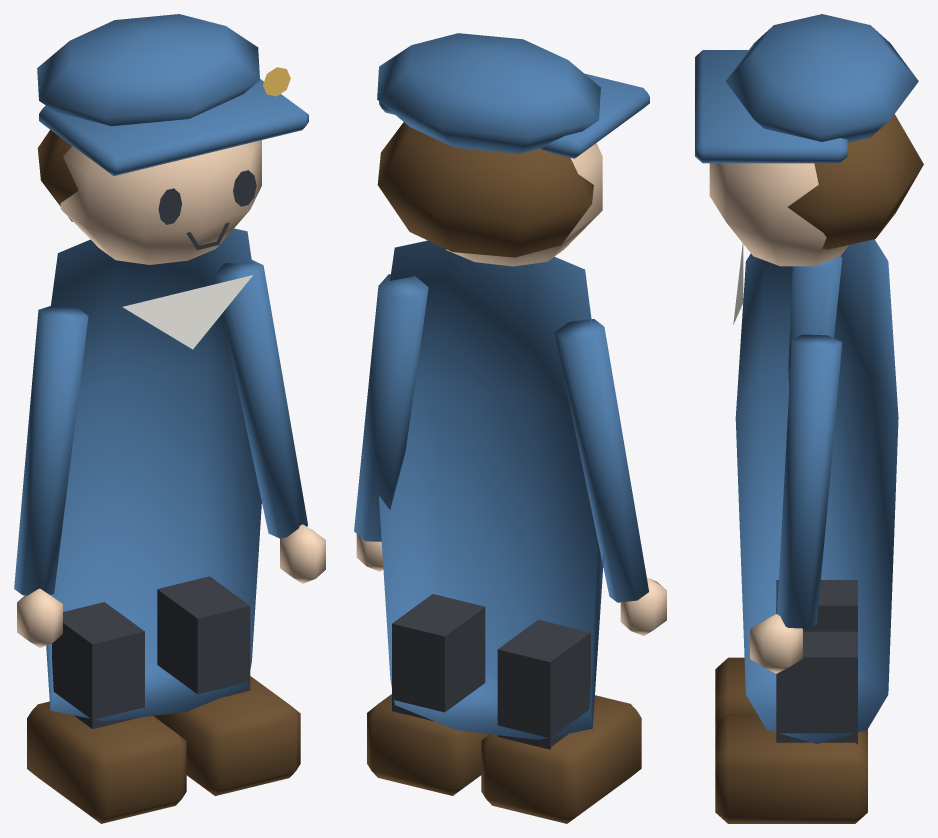
The model's file is passenger.glb.
The picture shows the model from 3 angles, left to right: view 1: azimuth 30°, elevation 25°; view 2: azimuth 150°, elevation 25°; view 3: azimuth 270°, elevation 25°; orthographic projection.
Parts seen in each view (by area): view 1: passenger; view 2: passenger; view 3: passenger.
Boxes of the visible parts, bbox=[...] form: passenger: bbox=[14, 14, 325, 823]; passenger: bbox=[354, 33, 666, 823]; passenger: bbox=[695, 14, 923, 823].
Bounding box in the file's own units: 0.675 × 1.6 × 0.45.
